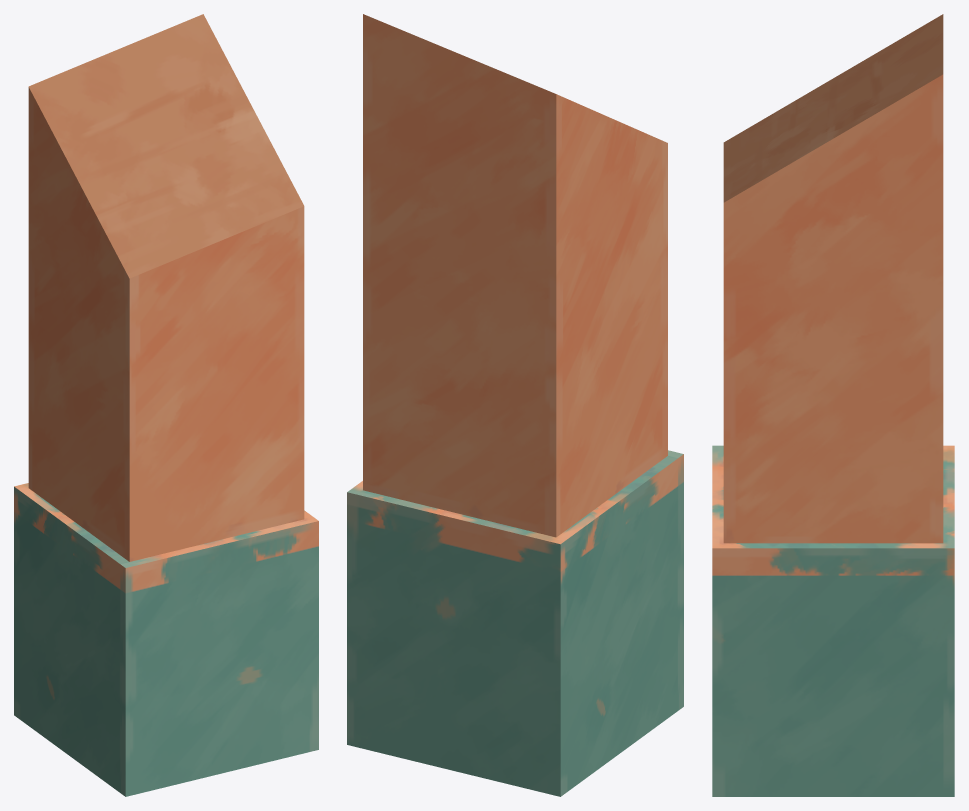
The model's file is corner2_s02.fbx.
The picture shows the model from 3 angles, left to right: view 1: azimuth 30°, elevation 25°; view 2: azimuth 150°, elevation 25°; view 3: azimuth 270°, elevation 25°; orthographic projection. The views are drawn at different scales.
Parts seen in each view (by area): view 1: corner2_s02; view 2: corner2_s02; view 3: corner2_s02.
Boxes of the visible parts, x1,y1,x2,y2 form: corner2_s02: (14, 14, 318, 796); corner2_s02: (347, 14, 683, 796); corner2_s02: (712, 14, 954, 796).
Size of the model in its own units: 1.77 by 5.77 by 1.77.
